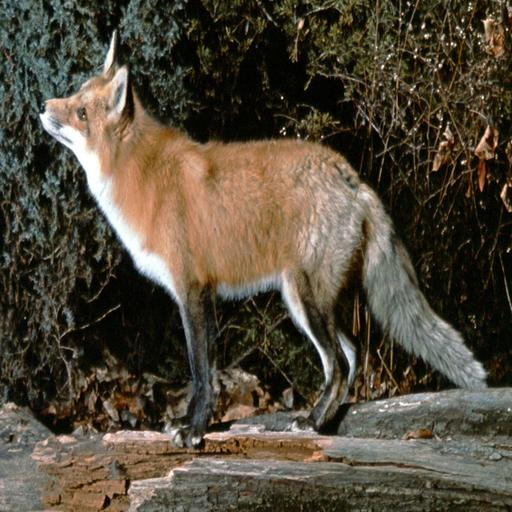Fox: (38, 27, 502, 449)
